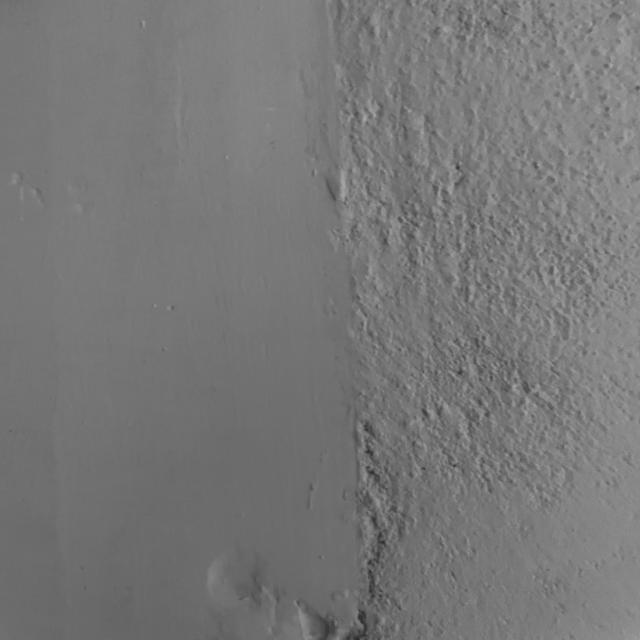rough and patchy surface: (202, 0, 640, 640), (0, 167, 94, 229)
